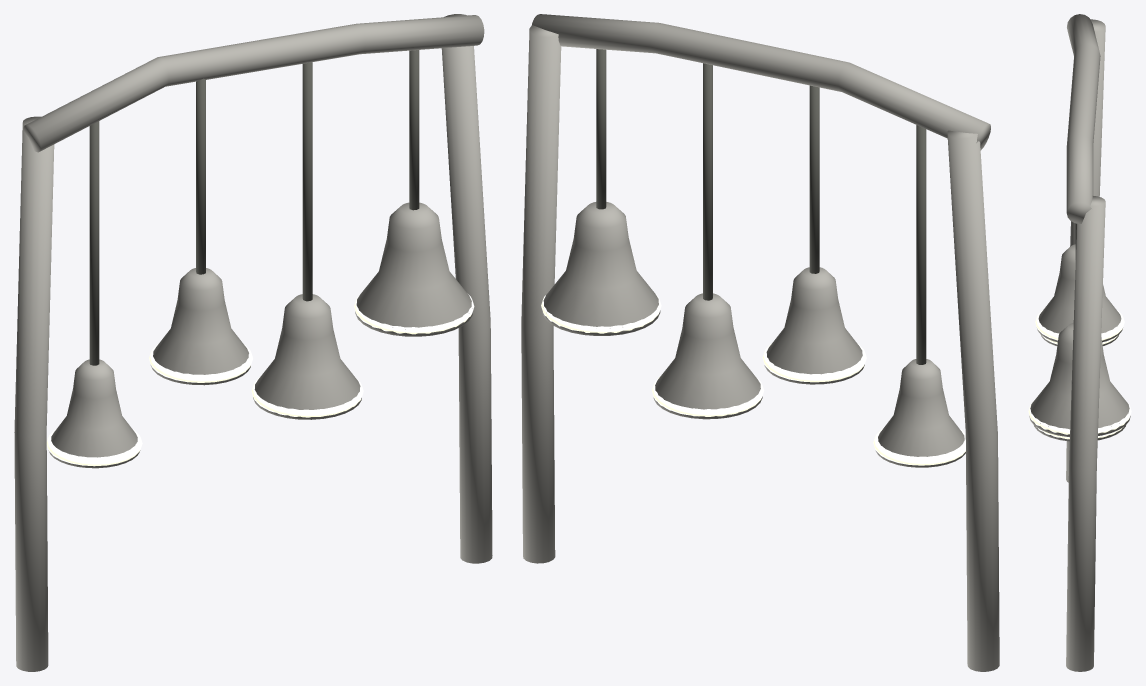
The model's file is structure-bells.glb.
The picture shows the model from 3 angles, left to right: view 1: azimuth 30°, elevation 25°; view 2: azimuth 150°, elevation 25°; view 3: azimuth 270°, elevation 25°; orthographic projection. The views are drawn at different scales.
Visible parts, largest first — view 1: awake; view 2: awake; view 3: awake.
Part boxes in pixels (x1=…): awake: x1=14, y1=14, x2=492, y2=671; awake: x1=521, y1=14, x2=999, y2=671; awake: x1=1028, y1=14, x2=1131, y2=671.
Size of the model in its own units: 3.19 by 3.69 by 0.7046.
